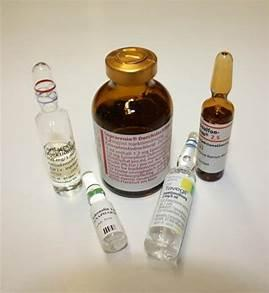Syringe: (90, 42, 174, 197), (25, 56, 84, 200), (194, 48, 239, 184), (77, 168, 133, 256)
